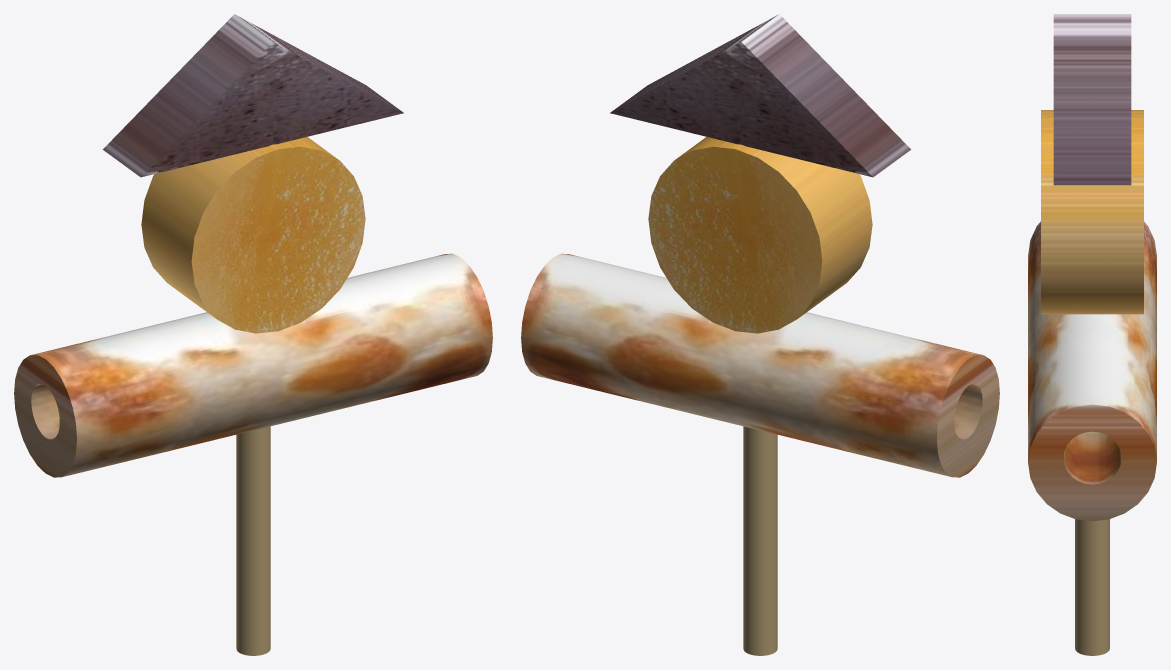
File: ODEN.fbx
3 renders of one model, left to right at view 1: azimuth 30°, elevation 25°; view 2: azimuth 150°, elevation 25°; view 3: azimuth 270°, elevation 25°, orthographic. The views are drawn at different scales.
Visible parts, largest first — view 1: pCylinder7; view 2: pCylinder7; view 3: pCylinder7.
Boxes of the visible parts, x1,y1,x2,y2 form: pCylinder7: [14, 14, 492, 655]; pCylinder7: [521, 14, 999, 655]; pCylinder7: [1028, 14, 1156, 655].
Size of the model in its own units: 6.31 by 9 by 1.66.
